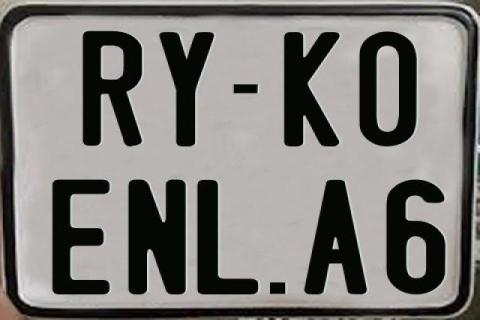0: (356, 32, 418, 150), (384, 177, 443, 293)
A: (301, 178, 366, 292)
E: (52, 178, 114, 296)
K: (282, 31, 341, 149)
L: (196, 179, 261, 295)
N: (126, 177, 186, 297)
R: (83, 32, 143, 150)
Y: (158, 30, 216, 146)
